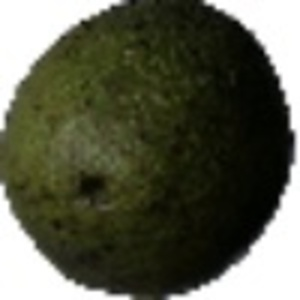abacate: (5, 3, 297, 296)
